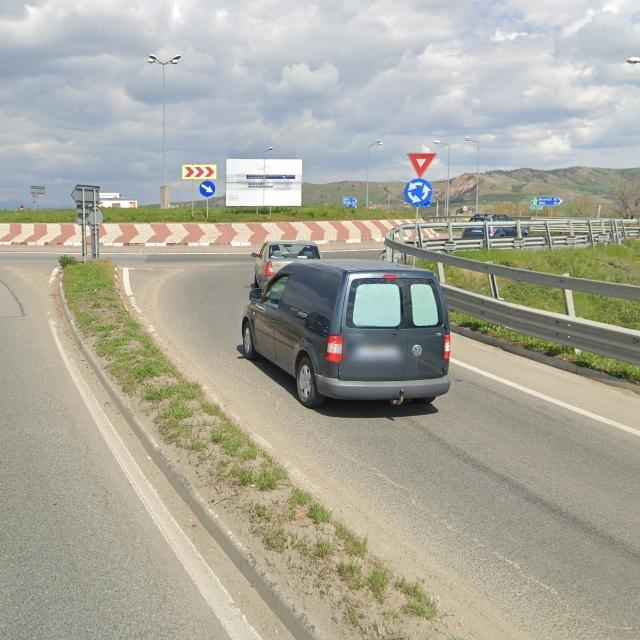prio_give_way: (408, 152, 437, 178)
